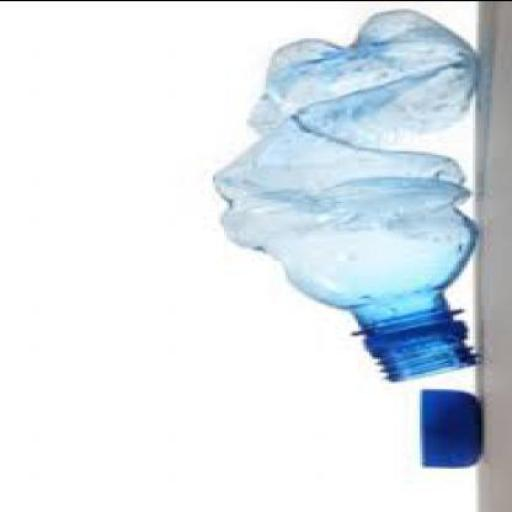plastic: (210, 11, 476, 383), (420, 389, 478, 468)
